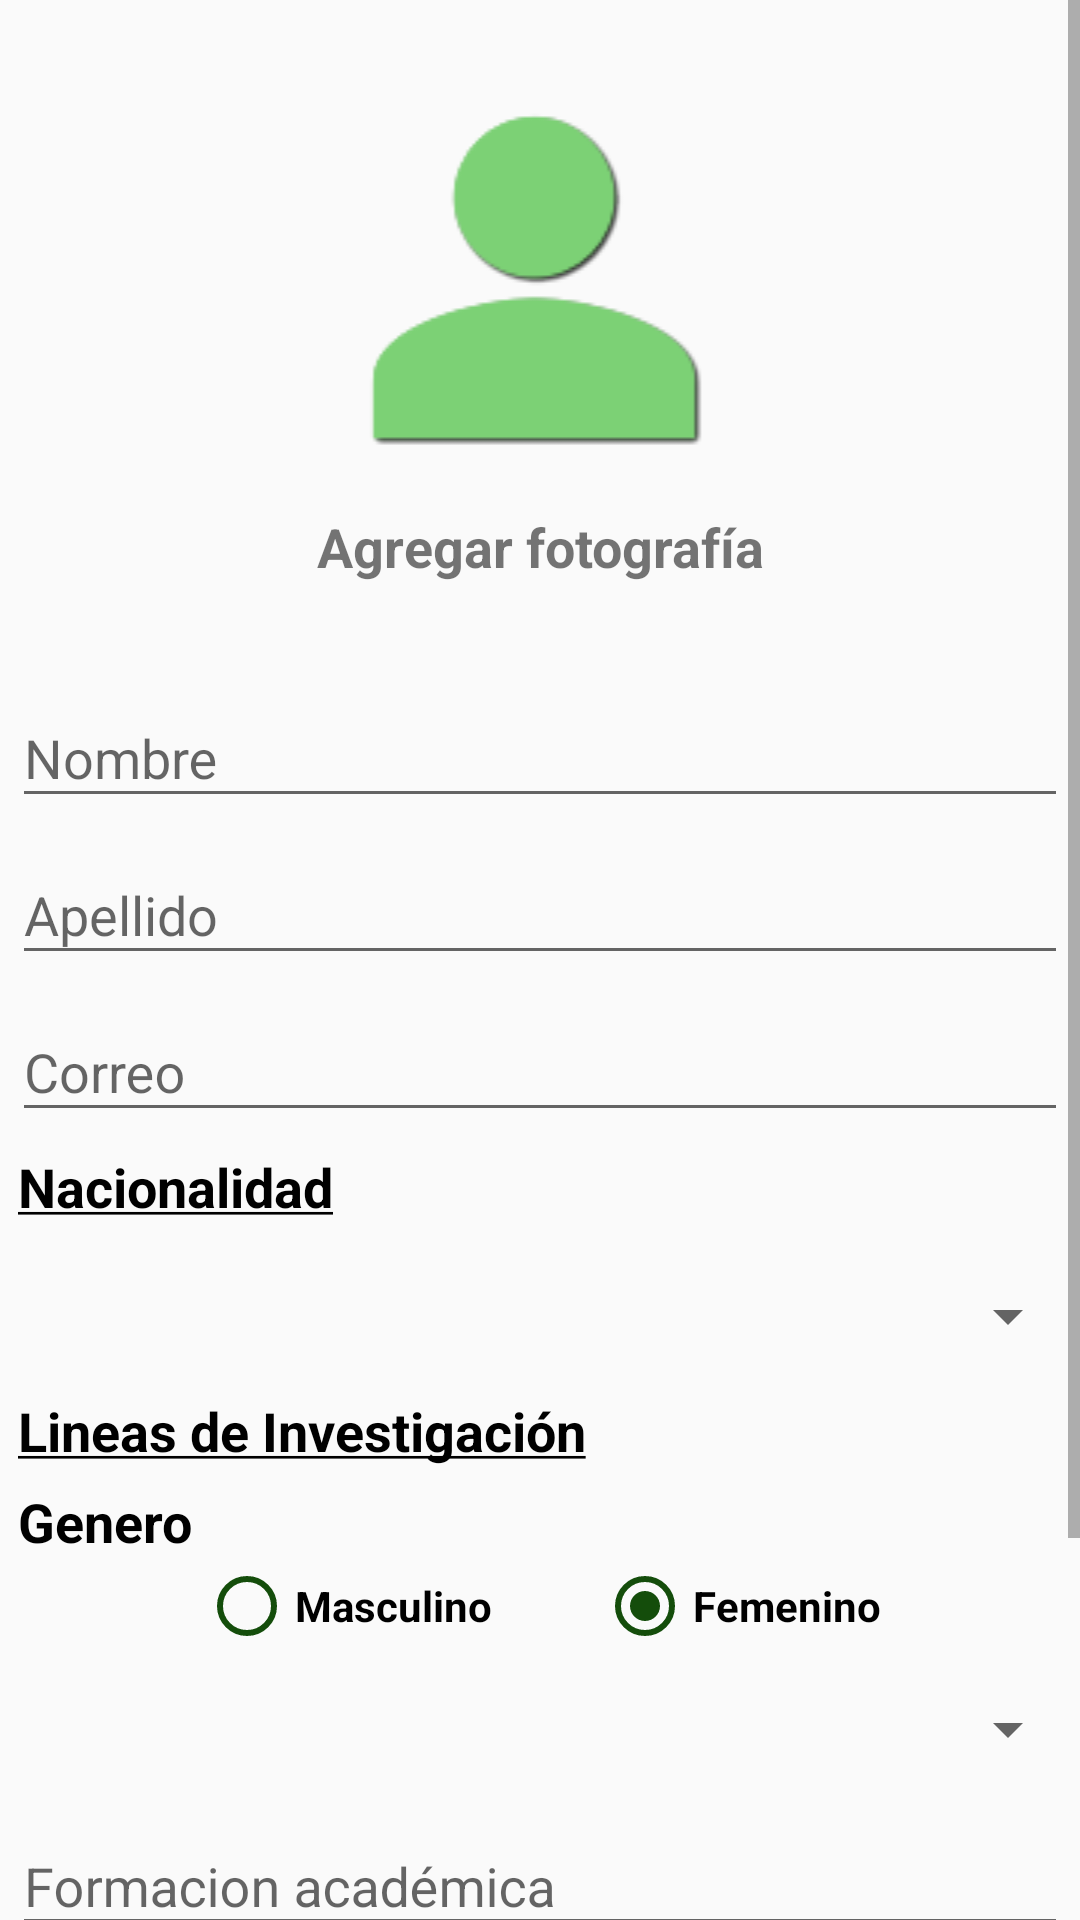

Named icons in this screenshot (1080 × 1920) and their bounding boxes, (x1, y1, x2, y2):
add investigator: (372, 116, 701, 445)
